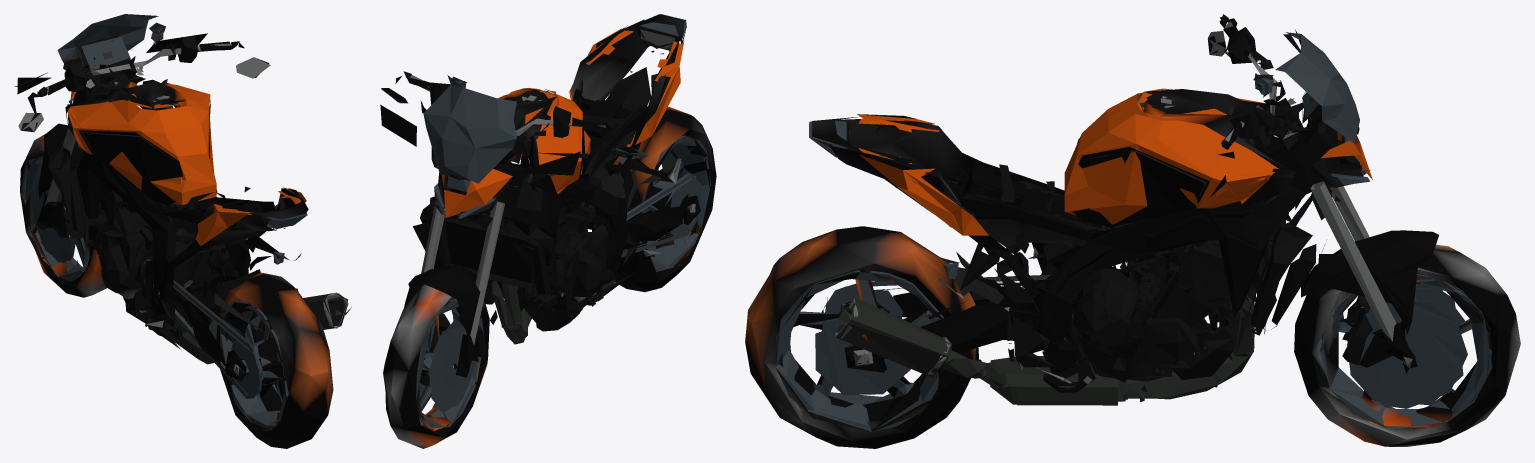
The model's file is yamaha.lod.glb.
3 renders of one model, left to right at view 1: azimuth 30°, elevation 25°; view 2: azimuth 150°, elevation 25°; view 3: azimuth 270°, elevation 25°, orthographic. The views are drawn at different scales.
Visible parts, largest first — view 1: lod_body, lod_glass; view 2: lod_body, lod_glass; view 3: lod_body, lod_glass.
Boxes of the visible parts, box(x1,y1,x2,y2) form: lod_body: box(14, 22, 351, 448); lod_glass: box(25, 14, 307, 431); lod_body: box(380, 14, 716, 448); lod_glass: box(416, 14, 710, 428); lod_body: box(745, 14, 1520, 448); lod_glass: box(775, 32, 1492, 431).
Size of the model in its own units: 1.13 by 1.3 by 2.27.
